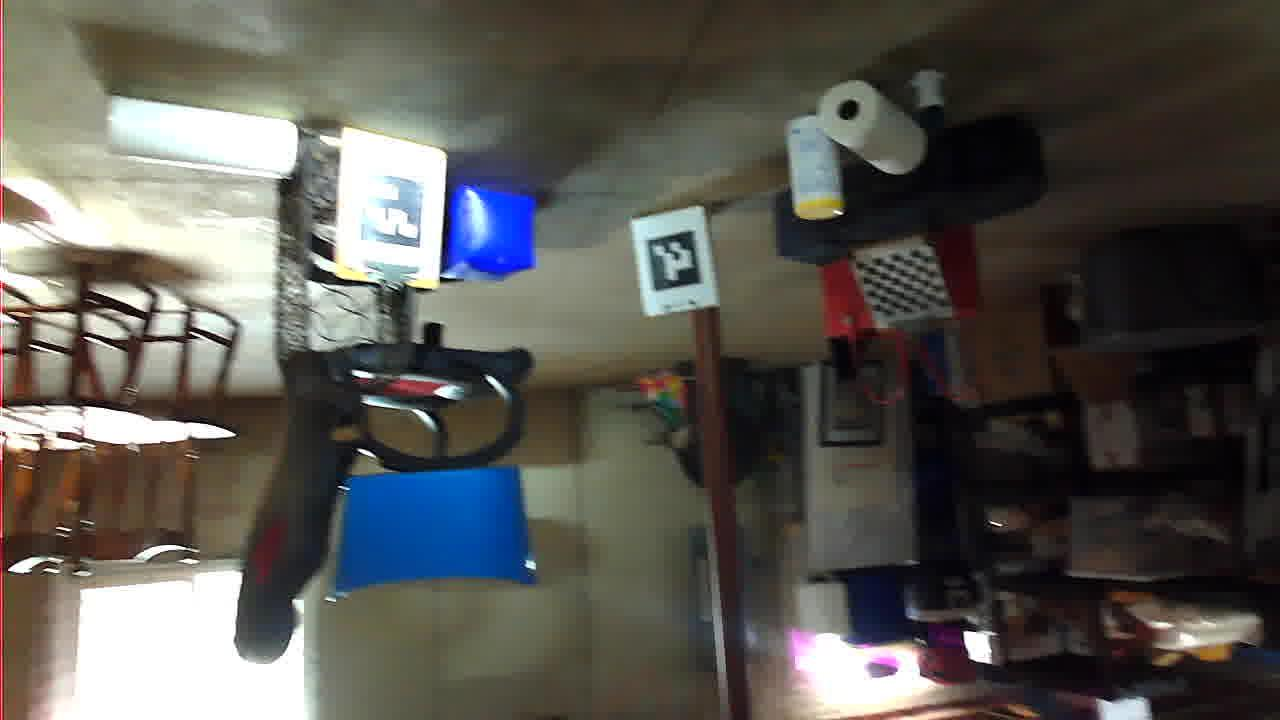coral: (983, 542, 1174, 629)
